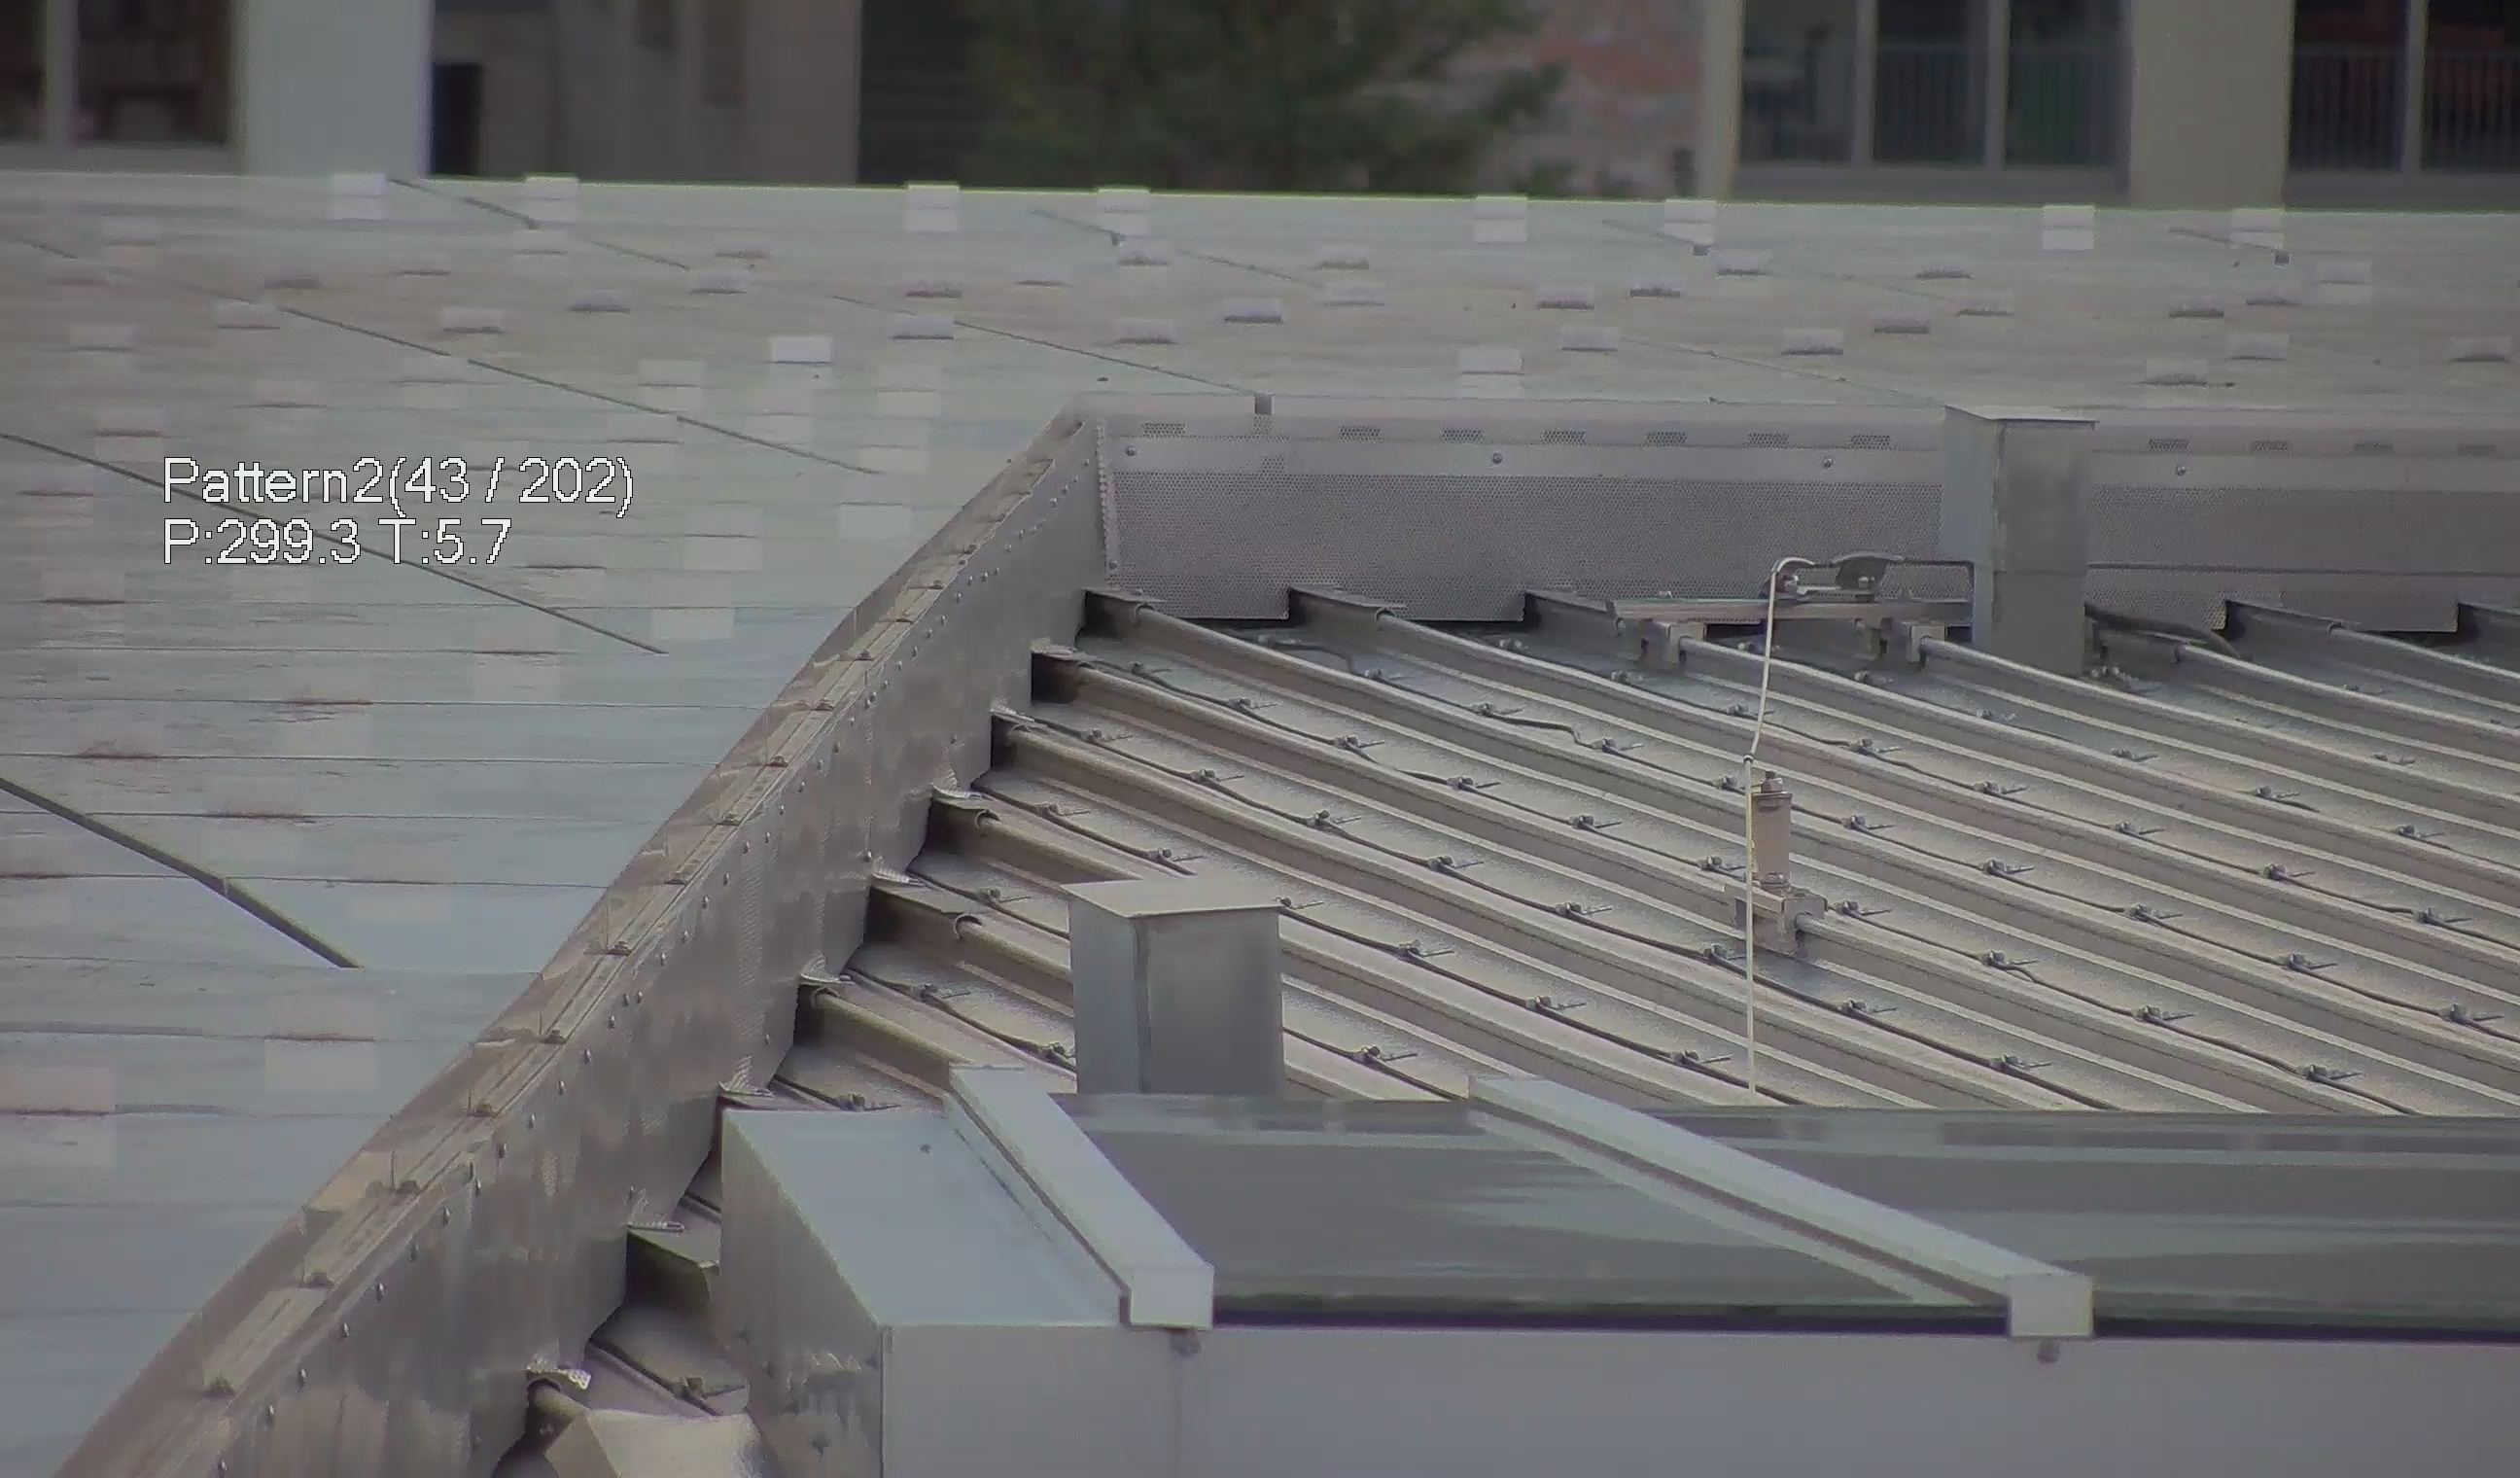Other: (477, 1357, 593, 1473)
